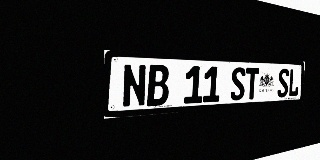1: (184, 66, 203, 104), (203, 66, 220, 103)
B: (147, 65, 169, 106)
L: (288, 69, 300, 97)
N: (122, 64, 147, 108)
S: (230, 67, 246, 101), (277, 68, 289, 98)
T: (245, 67, 259, 100)
